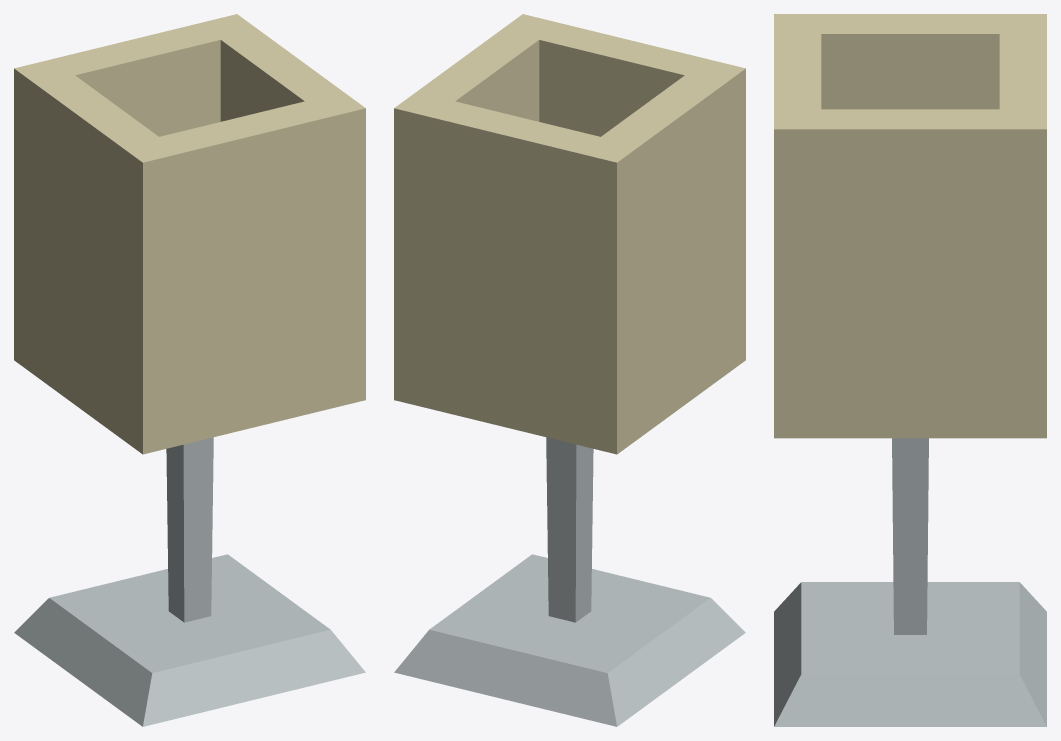
The model's file is lampSquareTable.glb.
3 renders of one model, left to right at view 1: azimuth 30°, elevation 25°; view 2: azimuth 150°, elevation 25°; view 3: azimuth 270°, elevation 25°, orthographic. The views are drawn at different scales.
Parts seen in each view (by area): view 1: lampSquareTable; view 2: lampSquareTable; view 3: lampSquareTable.
Part boxes in pixels (x1,y1,x2,y2): lampSquareTable: (14,14,365,726); lampSquareTable: (394,14,745,726); lampSquareTable: (774,14,1046,726).
Size of the model in its own units: 0.12 by 0.29 by 0.12.
